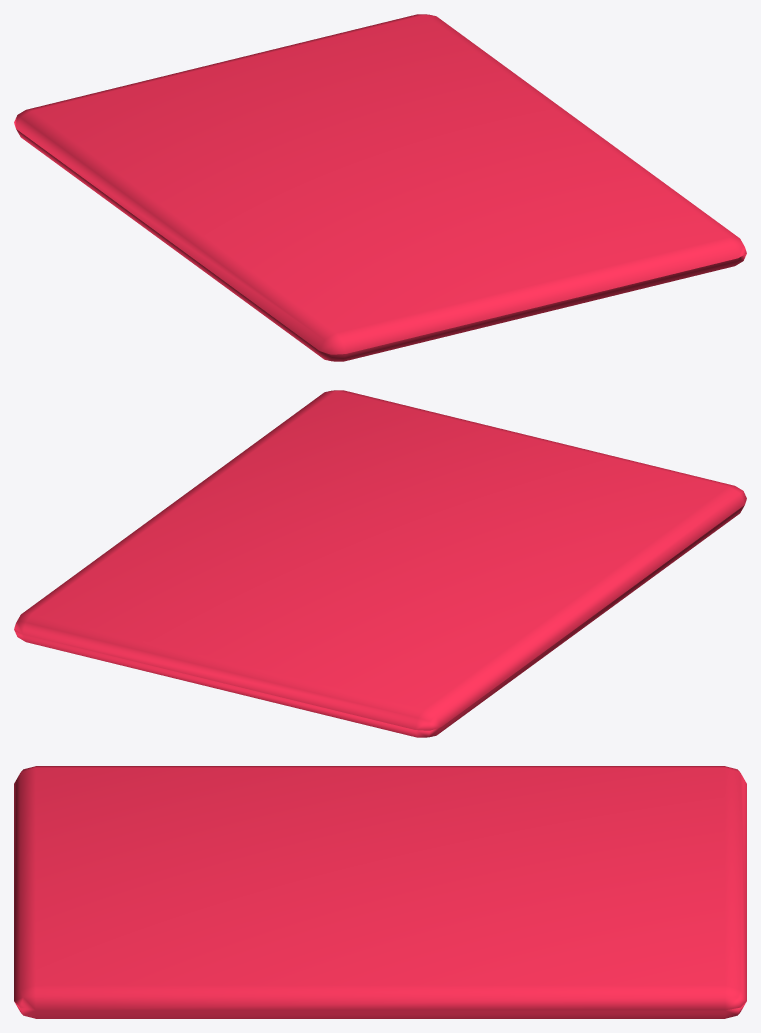
The model's file is Duvet.fbx.
The picture shows the model from 3 angles, top to bottom: view 1: azimuth 30°, elevation 25°; view 2: azimuth 150°, elevation 25°; view 3: azimuth 270°, elevation 25°; orthographic projection. The views are drawn at different scales.
Visible parts, largest first — view 1: Duvet; view 2: Duvet; view 3: Duvet.
Part boxes in pixels (x1,y1,x2,y2): Duvet: (14, 14, 746, 361); Duvet: (14, 390, 746, 737); Duvet: (14, 766, 746, 1018).
Bounding box in the file's own units: 1.11 × 0.0694 × 1.46.
